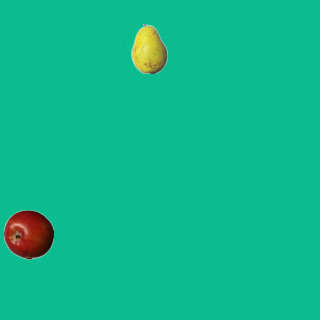Apple Braeburn: (3, 209, 53, 259)
Pear Monster: (124, 23, 174, 73)
